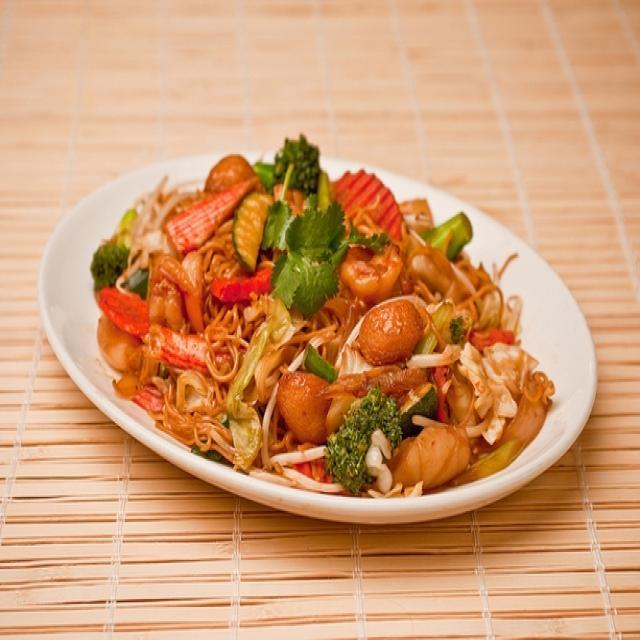蔬菜料理: (55, 89, 616, 556)
